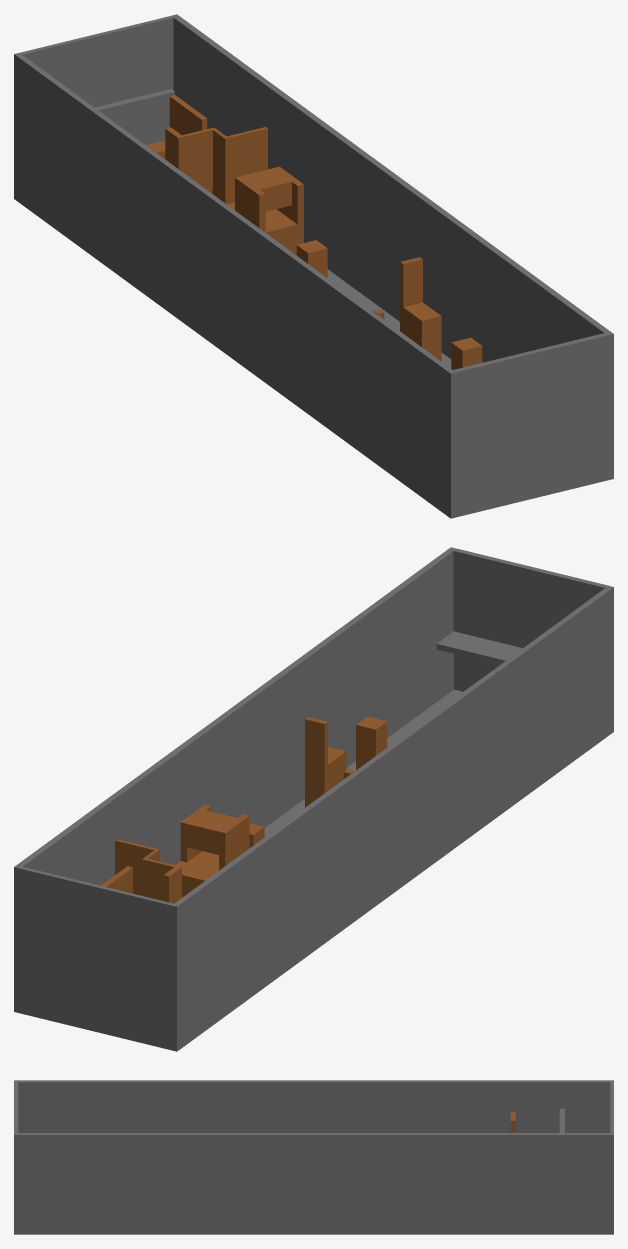
File: ParkourLevel5.fbx
3 renders of one model, top to bottom at view 1: azimuth 30°, elevation 25°; view 2: azimuth 150°, elevation 25°; view 3: azimuth 270°, elevation 25°, orthographic. The views are drawn at different scales.
Visible parts, largest first — view 1: Cube, Cube.017, Cube.011, Cube.018, Cube.021, Cube.026, Cube.003, Cube.010; view 2: Cube, Cube.011, Cube.017, Cube.018, Cube.026, Cube.003; view 3: Cube.
Part boxes in pixels (left/top/right/bottom): Cube: left=14, top=14, right=613, bottom=518; Cube.017: left=165, top=127, right=267, bottom=204; Cube.011: left=227, top=166, right=303, bottom=255; Cube.018: left=400, top=257, right=441, bottom=361; Cube.021: left=146, top=95, right=207, bottom=158; Cube.026: left=242, top=168, right=291, bottom=211; Cube.003: left=451, top=337, right=482, bottom=369; Cube.010: left=296, top=240, right=327, bottom=277; Cube: left=14, top=547, right=613, bottom=1051; Cube.011: left=175, top=804, right=249, bottom=897; Cube.017: left=115, top=839, right=181, bottom=903; Cube.018: left=305, top=717, right=346, bottom=807; Cube.026: left=186, top=810, right=236, bottom=855; Cube.003: left=356, top=716, right=387, bottom=770; Cube: left=14, top=1080, right=613, bottom=1234.
Bounding box in the file's own units: 1652 × 1404 × 7666.
